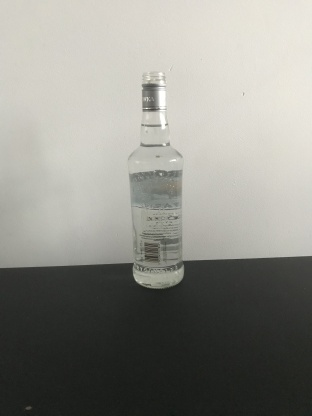nakretka: (140, 68, 168, 112)
